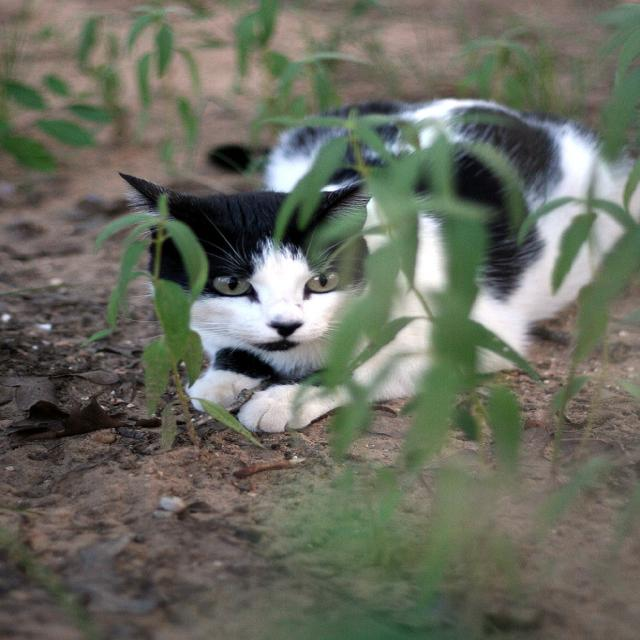cat: (118, 98, 640, 435)
